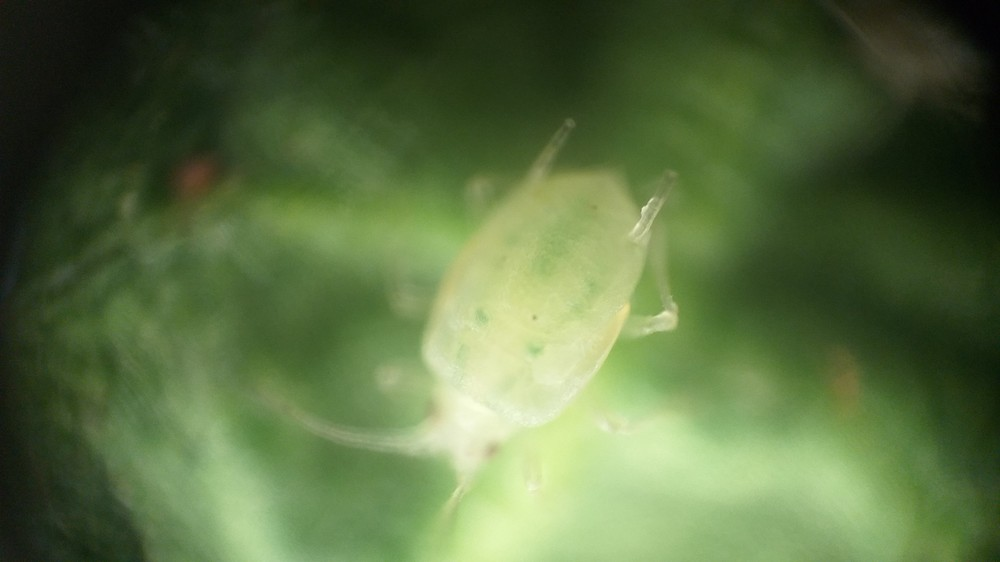Pulgon: (287, 105, 748, 553)
